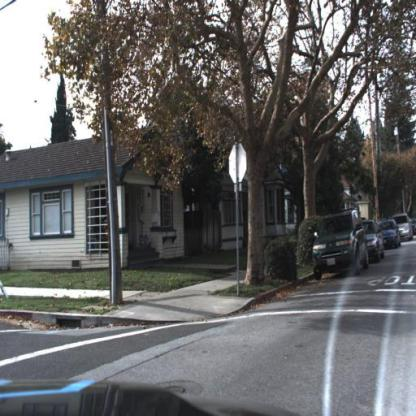car: (311, 207, 369, 278), (364, 218, 386, 268), (380, 218, 402, 249), (399, 213, 411, 242)
